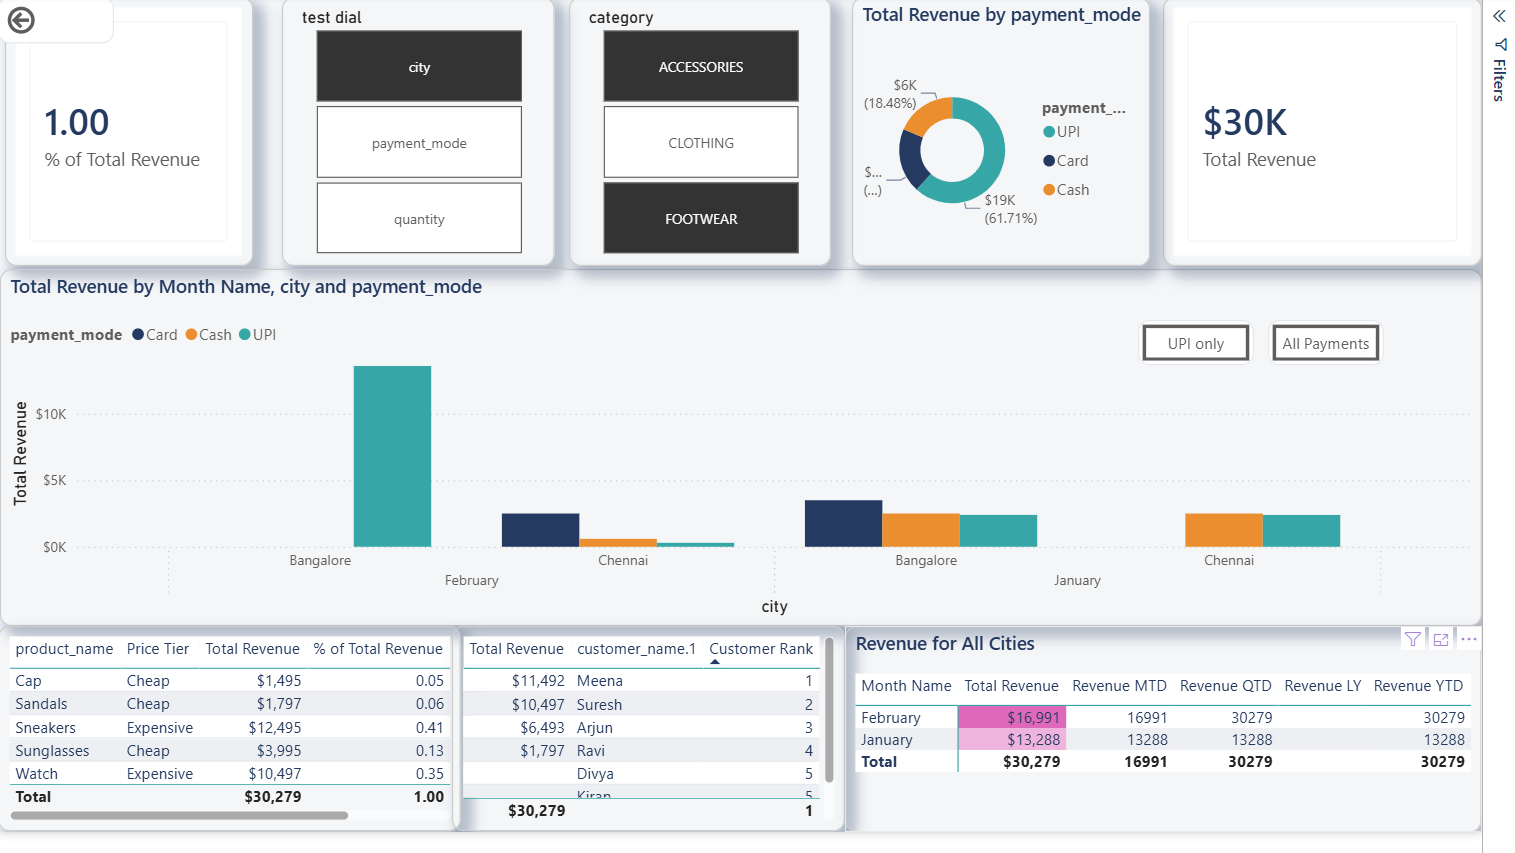

The dashboard page shown, as its layout file describes it:
{"tool":"powerbi","page":{"name":"Page 1","canvas":[1280,720],"ordinal":0},"visuals":[{"type":"cardVisual","fields":{"Data":["sales_fact.% of Total Revenue"]},"box":[6,0,214,232.3],"z":0},{"type":"actionButton","box":[0,0,100,40],"z":1000},{"type":"slicer","fields":{"Values":["test dial.test dial"]},"box":[245,0,234.8,232.3],"z":2000},{"type":"clusteredColumnChart","fields":{"Category":["Calendar.Month Name","customers.city"],"Series":["sales_fact.payment_mode"],"Y":["sales_fact.Total Revenue"]},"box":[1.7,234.6,1278.3,307.9],"z":3000},{"type":"cardVisual","fields":{"Data":["sales_fact.Total Revenue"]},"box":[1004.9,0,275.1,232.3],"z":4000},{"type":"slicer","fields":{"Values":["products.category"]},"box":[492.5,0,226.2,232.3],"z":5000},{"type":"donutChart","fields":{"Category":["sales_fact.payment_mode"],"Y":["sales_fact.Total Revenue"]},"box":[736.6,0,256.8,232.3],"z":6000},{"type":"tableEx","fields":{"Values":["products.product_name","products.Price Tier","sales_fact.Total Revenue","sales_fact.% of Total Revenue","sales_fact.Chennai Revenue"]},"box":[0,542.5,399.4,176.8],"z":7000},{"type":"tableEx","fields":{"Values":["sales_fact.Total Revenue","customers.customer_name.1","customers.Customer Rank"]},"box":[391.6,542.5,339,176.8],"z":8000},{"type":"pivotTable","fields":{"Rows":["Calendar.Month Name"],"Values":["sales_fact.Total Revenue","Calendar.Revenue MTD","Calendar.Revenue QTD","Calendar.Revenue LY","Calendar.Revenue YTD"]},"box":[730.6,542.5,549.4,177.7],"z":9000},{"type":"actionButton","box":[983.6,278.7,100,39.3],"z":11000},{"type":"actionButton","box":[1095.1,278.7,100,39.3],"z":12000}]}

Visuals, with their boxes in screenshot pixels (x1, y1, x2, y2), scaled from the page's 1280x720 canvas onto the 1515x853 screenshot:
cardVisual - sales_fact.% of Total Revenue: Rect(7, 0, 260, 275)
actionButton: Rect(0, 0, 118, 47)
slicer - test dial.test dial: Rect(290, 0, 568, 275)
clusteredColumnChart - Calendar.Month Name x customers.city: Rect(2, 278, 1514, 643)
cardVisual - sales_fact.Total Revenue: Rect(1189, 0, 1514, 275)
slicer - products.category: Rect(583, 0, 851, 275)
donutChart - sales_fact.payment_mode x sales_fact.Total Revenue: Rect(872, 0, 1176, 275)
tableEx - products.product_name x products.Price Tier: Rect(0, 643, 473, 852)
tableEx - sales_fact.Total Revenue x customers.customer_name.1: Rect(463, 643, 865, 852)
pivotTable - Calendar.Month Name x sales_fact.Total Revenue: Rect(865, 643, 1514, 852)
actionButton: Rect(1164, 330, 1283, 377)
actionButton: Rect(1296, 330, 1415, 377)
